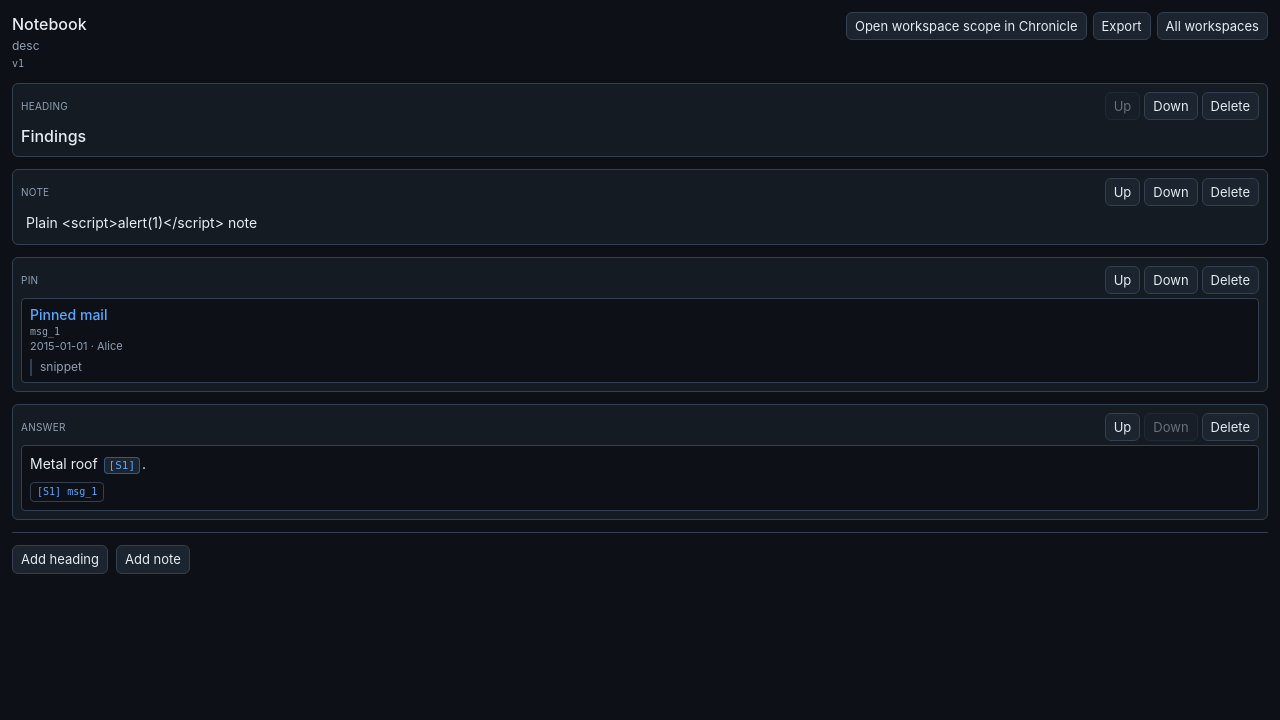
Test: WorkspacePage notebook › shows 409 version-conflict banner on name edit
Click the heading with test id "workspace-name".
click(49, 24)  # box 12,14 -> 87,34
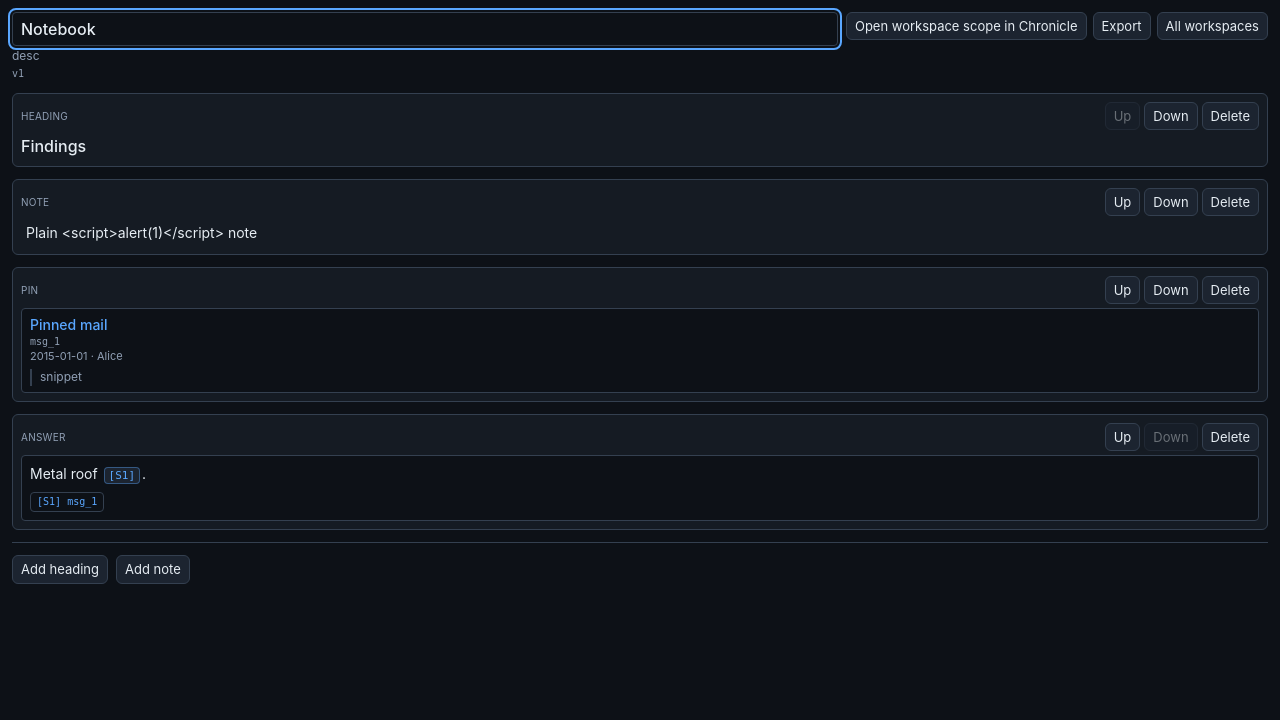
Replace the text in the field with test id "workspace-name-edit" with "Renamed" at (425, 29), box 12,12 -> 838,46
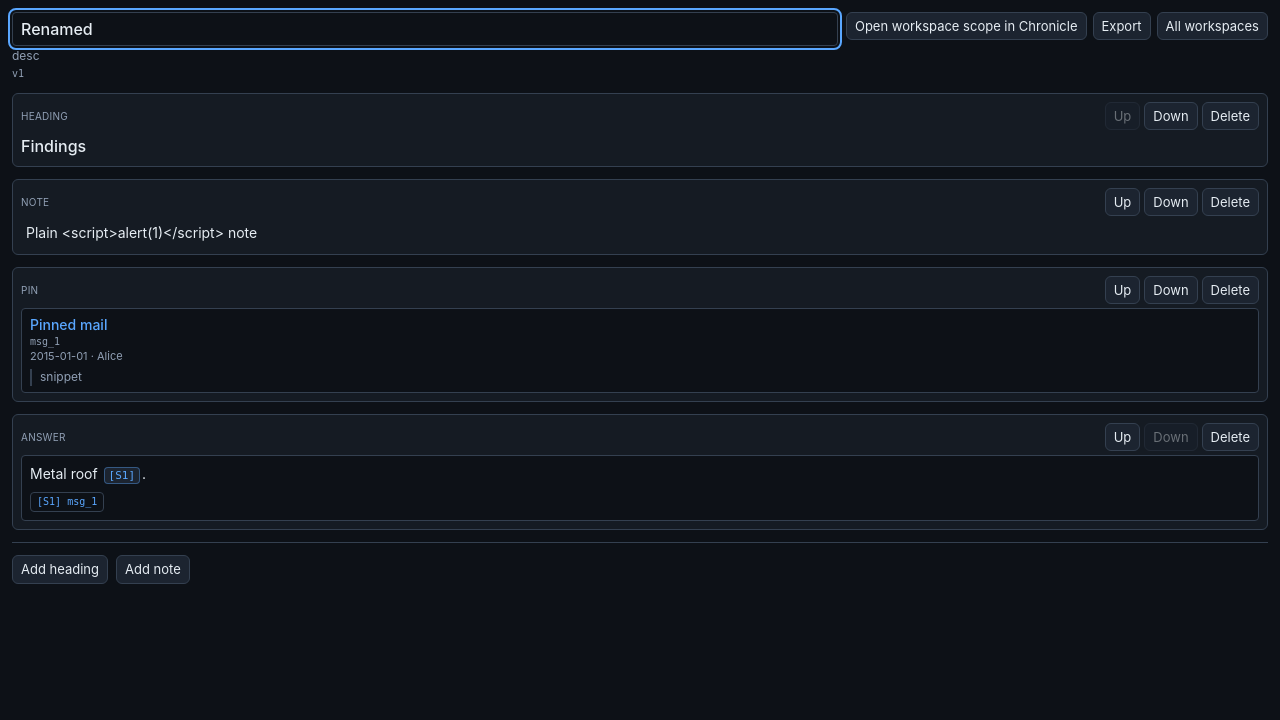
Leave the field with test id "workspace-name-edit", box 12,12 -> 838,46
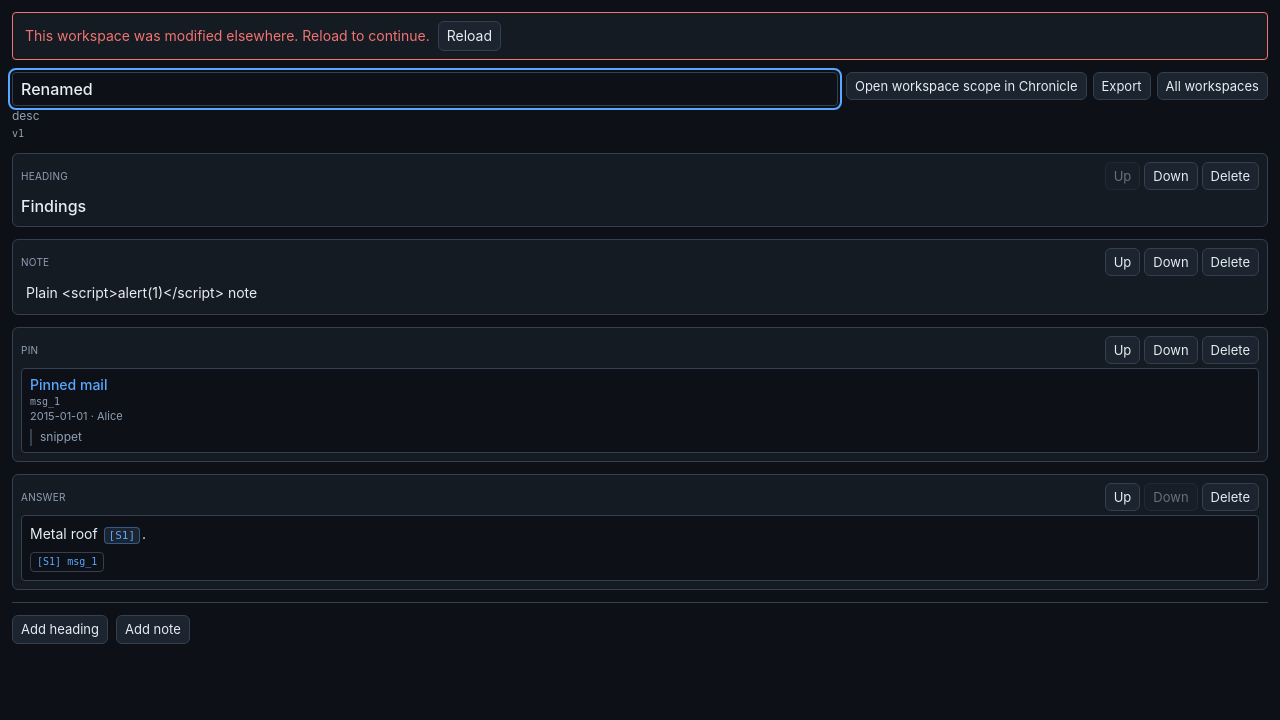
Expected: the message "This workspace was modified elsewhere. Reload to continue. Reload" is shown, 12,12 -> 1268,60
